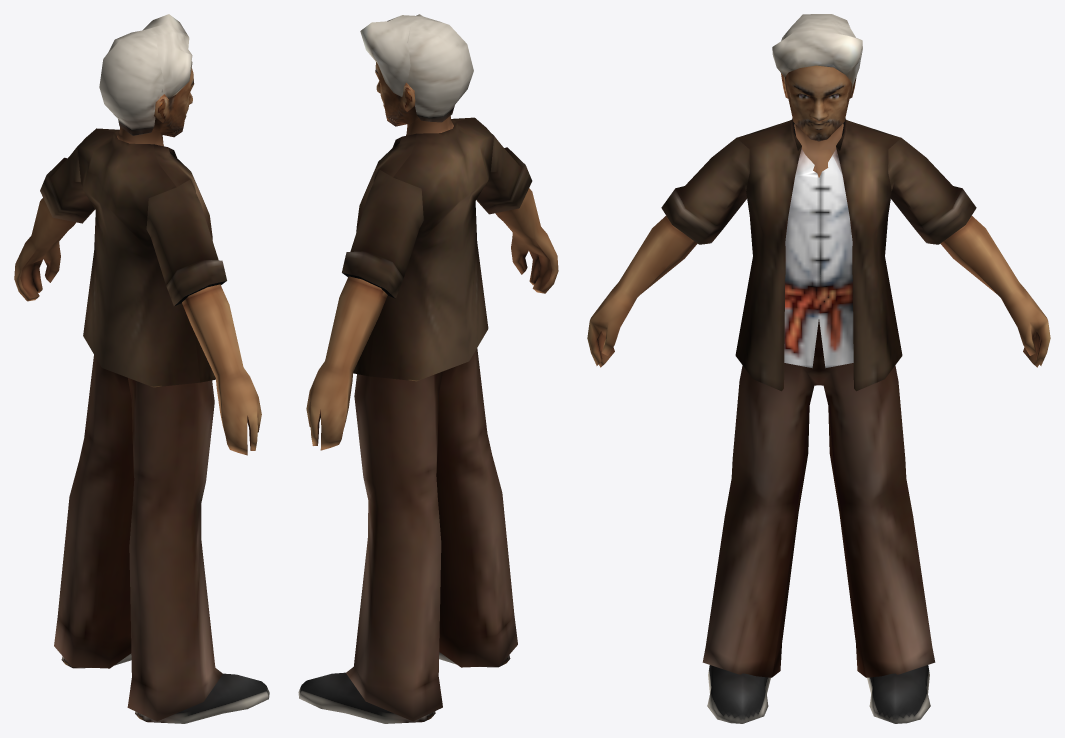
The model's file is Pesent_Boy.fbx.
The picture shows the model from 3 angles, left to right: view 1: azimuth 30°, elevation 25°; view 2: azimuth 150°, elevation 25°; view 3: azimuth 270°, elevation 25°; orthographic projection. The views are drawn at different scales.
Visible parts, largest first — view 1: Pesent_Boy; view 2: Pesent_Boy; view 3: Pesent_Boy.
Part boxes in pixels (x1,y1,x2,y2): Pesent_Boy: (14,14,269,723); Pesent_Boy: (298,14,558,723); Pesent_Boy: (587,14,1050,723).
Size of the model in its own units: 35.97 by 172 by 109.
1 material, 1 textured.
